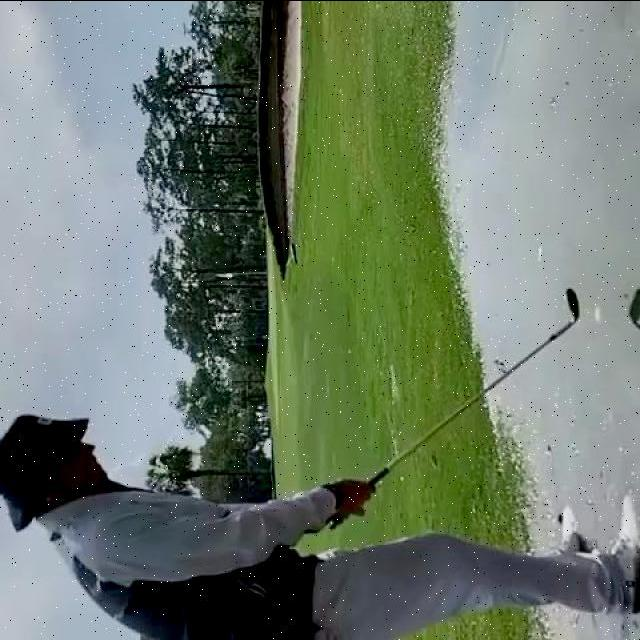ClubHandle: (326, 286, 581, 530)
ClubHead: (564, 287, 581, 319)
